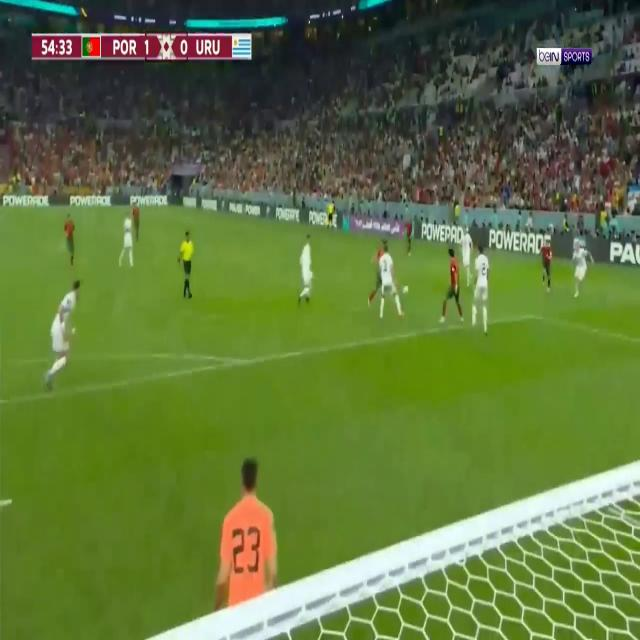Ball: (402, 284, 409, 295)
GoalKeeper: (214, 447, 285, 633)
Referee: (177, 230, 195, 300), (326, 200, 335, 230)
TEAM 1: (438, 247, 464, 329), (367, 237, 388, 312), (63, 214, 78, 268), (539, 240, 553, 292), (132, 202, 141, 242), (405, 218, 414, 257)
TEAM 2: (44, 279, 82, 392), (469, 244, 492, 337), (379, 245, 405, 322), (296, 234, 316, 307), (572, 240, 596, 298), (118, 210, 134, 268), (461, 225, 474, 287)
